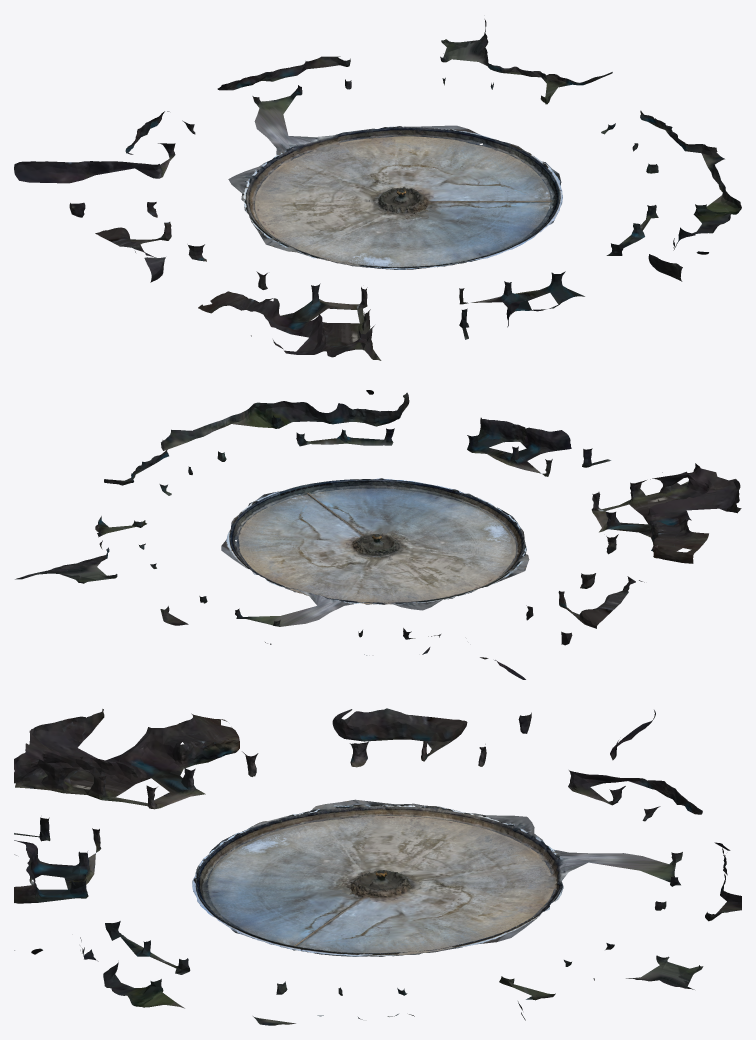
Rendered from GrosseFontaine.glb.
The picture shows the model from 3 angles, top to bottom: view 1: azimuth 30°, elevation 25°; view 2: azimuth 150°, elevation 25°; view 3: azimuth 270°, elevation 25°; orthographic projection. The views are drawn at different scales.
Size of the model in its own units: 15.41 by 0.6374 by 15.26.
Materials: 1 (1 with a texture image).
